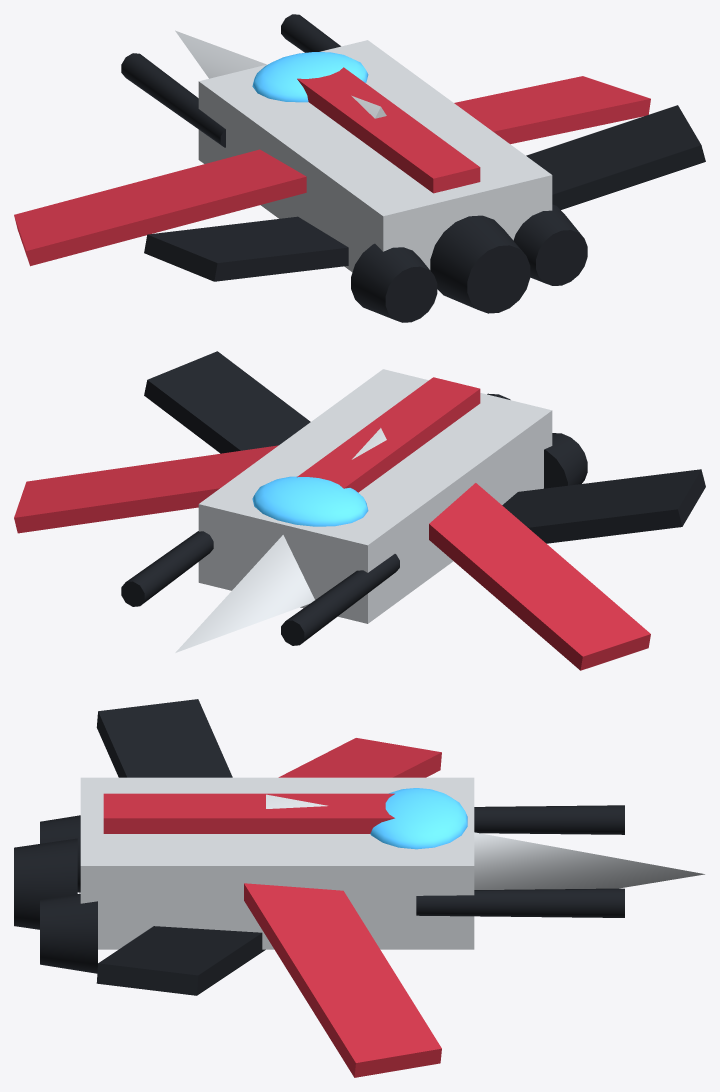
Rendered from raptor-v.glb.
3 renders of one model, top to bottom at view 1: azimuth 30°, elevation 25°; view 2: azimuth 150°, elevation 25°; view 3: azimuth 270°, elevation 25°, orthographic. The views are drawn at different scales.
Parts seen in each view (by area): view 1: angular fighter fuselage, forward swept blade wing -1, rear combat wing 1, rear combat wing -1, red dorsal strike stripe, forward swept blade wing 1, centerline engine, side engine -1, side engine 1, low attack canopy, exposed cannon barrel -1, needle fighter nose (+1 smaller); view 2: angular fighter fuselage, forward swept blade wing -1, forward swept blade wing 1, rear combat wing -1, rear combat wing 1, red dorsal strike stripe, needle fighter nose, low attack canopy, exposed cannon barrel -1, exposed cannon barrel 1, side engine -1; view 3: angular fighter fuselage, forward swept blade wing 1, red dorsal strike stripe, needle fighter nose, rear combat wing -1, rear combat wing 1, exposed cannon barrel 1, low attack canopy, forward swept blade wing -1, exposed cannon barrel -1, centerline engine, side engine 1 (+1 smaller).
Part boxes in pixels (box(x1,y1,x2,y2)): angular fighter fuselage: box(198, 40, 552, 272); forward swept blade wing -1: box(14, 149, 306, 266); rear combat wing 1: box(526, 105, 705, 209); rear combat wing -1: box(144, 216, 348, 281); red dorsal strike stripe: box(297, 67, 480, 193); forward swept blade wing 1: box(454, 76, 650, 144); centerline engine: box(430, 215, 530, 313); side engine -1: box(351, 243, 437, 322); side engine 1: box(513, 204, 587, 285); low attack canopy: box(252, 52, 368, 102); exposed cannon barrel -1: box(121, 53, 225, 147); needle fighter nose: box(175, 30, 386, 118); angular fighter fuselage: box(198, 369, 552, 623); forward swept blade wing -1: box(429, 483, 650, 670); forward swept blade wing 1: box(14, 445, 278, 533); rear combat wing -1: box(502, 469, 705, 543); rear combat wing 1: box(144, 351, 310, 453); red dorsal strike stripe: box(297, 377, 480, 492); needle fighter nose: box(175, 428, 386, 652); low attack canopy: box(252, 476, 368, 526); exposed cannon barrel -1: box(281, 554, 399, 645); exposed cannon barrel 1: box(121, 531, 213, 606); side engine -1: box(544, 433, 587, 488); angular fighter fuselage: box(80, 777, 474, 949); forward swept blade wing 1: box(244, 883, 441, 1077); red dorsal strike stripe: box(103, 793, 394, 833); needle fighter nose: box(266, 794, 704, 889); rear combat wing -1: box(96, 699, 232, 777); rear combat wing 1: box(96, 926, 265, 995); exposed cannon barrel 1: box(416, 888, 624, 917); low attack canopy: box(370, 788, 467, 849); forward swept blade wing -1: box(278, 738, 441, 777); exposed cannon barrel -1: box(474, 805, 624, 834); centerline engine: box(14, 838, 77, 929); side engine 1: box(40, 893, 97, 973).
Bounding box in the file's own units: 66.48 × 13 × 59.75.
